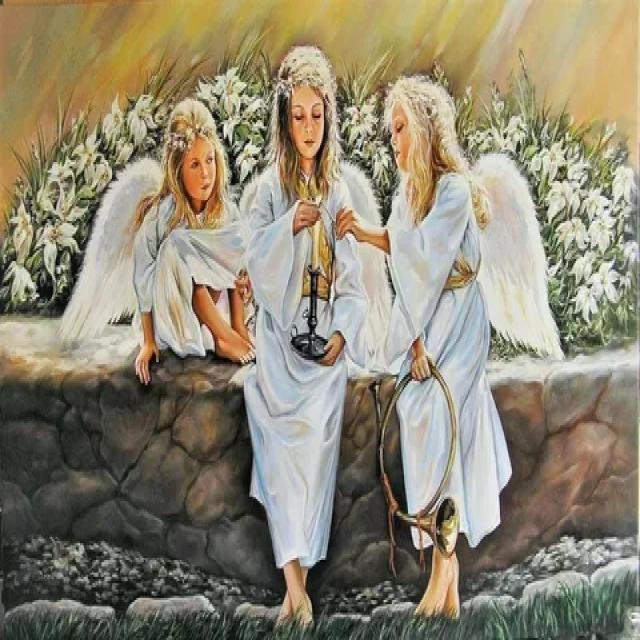angel: (370, 73, 569, 640)
